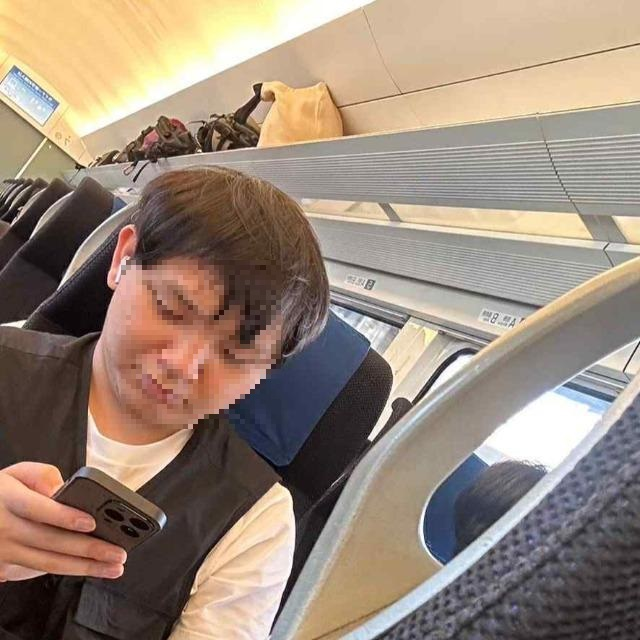NoHelmet: (103, 168, 333, 437)
